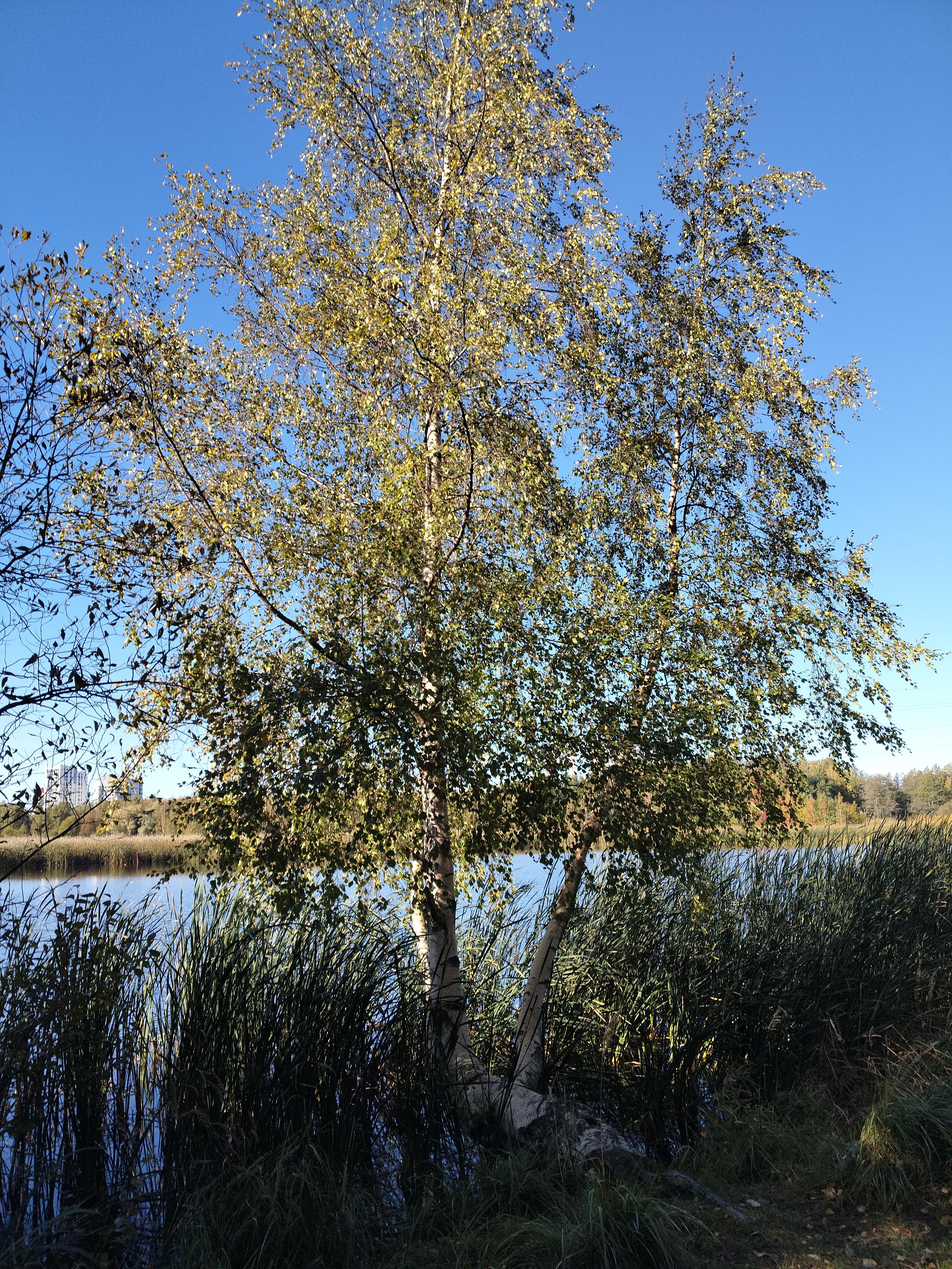Birch: (2, 1, 947, 1148)
